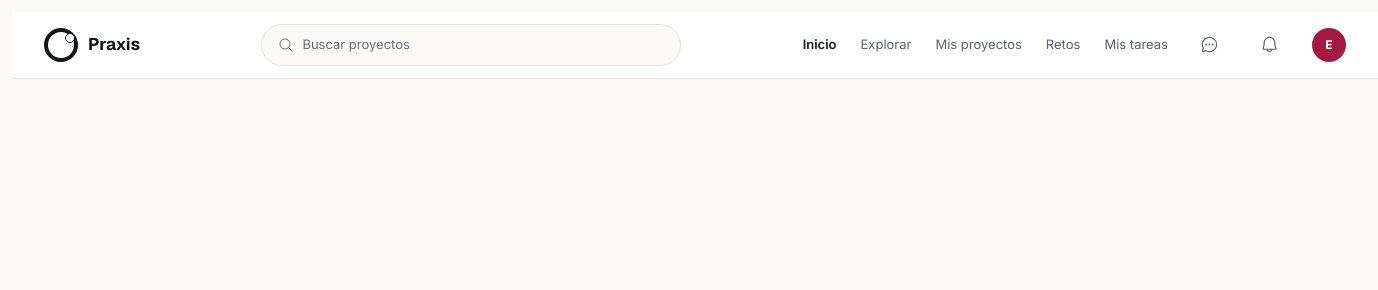
Test: Navbar — logout › clears the auth state and redirects to the home route
Click the button titled "Estudiante Prueba" at (1329, 45), box [1312, 28, 1346, 62]
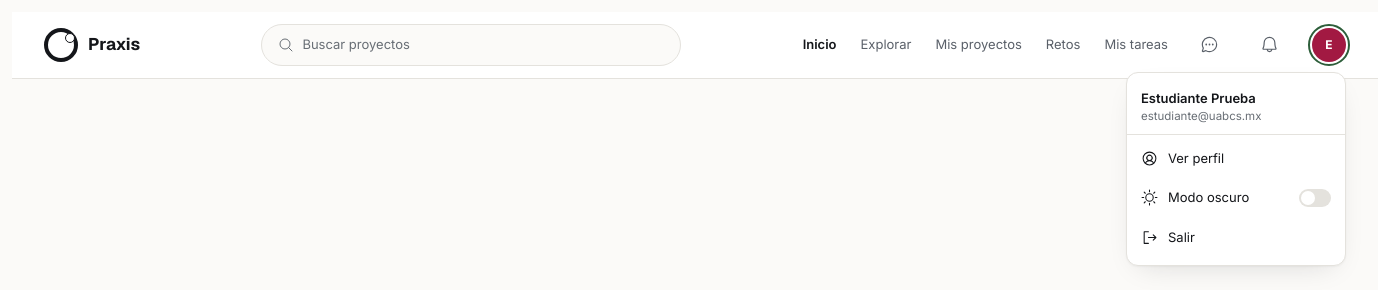
Click the button "Salir" at (1236, 237), box [1127, 218, 1345, 257]
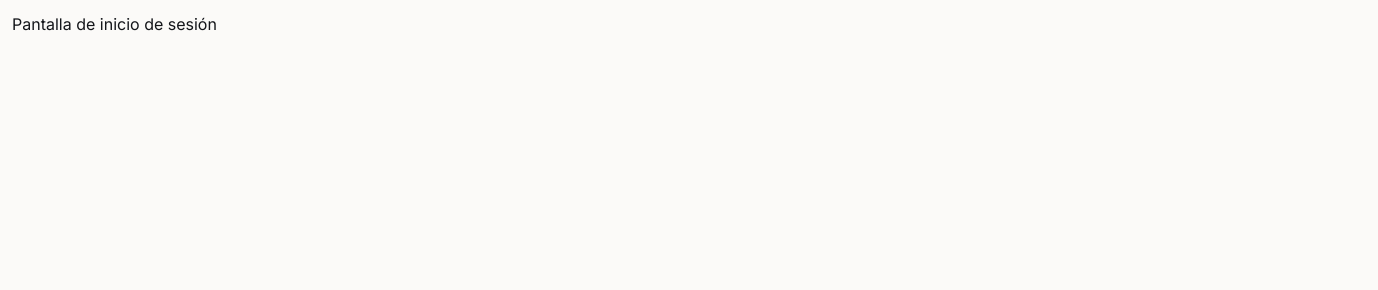
Expected: the text "Pantalla de inicio de sesión" is shown, [12, 14, 217, 34]
